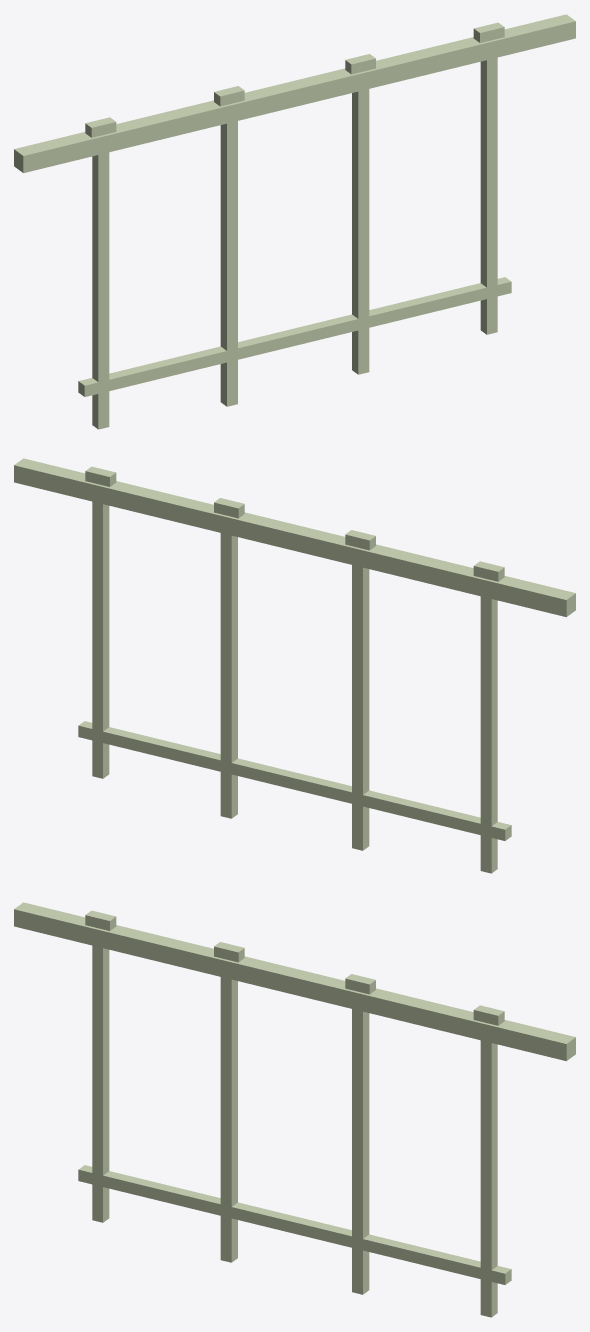
The model's file is furniture_signal_cantilever_dropper_quad.glb.
3 renders of one model, top to bottom at view 1: azimuth 30°, elevation 25°; view 2: azimuth 150°, elevation 25°; view 3: azimuth 330°, elevation 25°, orthographic.
Parts seen in each view (by area): view 1: hanger_beam, cross_tie, dropper_inner_right, dropper_inner_left, dropper_outer_left, dropper_outer_right; view 2: hanger_beam, cross_tie, dropper_inner_right, dropper_inner_left, dropper_outer_left, dropper_outer_right; view 3: hanger_beam, cross_tie, dropper_inner_left, dropper_inner_right, dropper_outer_right, dropper_outer_left.
Boxes of the visible parts, x1,y1,x2,y2 form: hanger_beam: (14,14,575,173); cross_tie: (78,277,511,396); dropper_inner_right: (352,89,369,374); dropper_inner_left: (220,121,237,406); dropper_outer_left: (92,152,109,429); dropper_outer_right: (480,57,497,334); hanger_beam: (14,458,575,617); cross_tie: (78,721,511,840); dropper_inner_right: (220,533,237,818); dropper_inner_left: (352,565,369,850); dropper_outer_left: (480,596,497,873); dropper_outer_right: (92,501,109,778); hanger_beam: (14,902,575,1061); cross_tie: (78,1165,511,1284); dropper_inner_left: (220,977,237,1262); dropper_inner_right: (352,1009,369,1294); dropper_outer_right: (480,1040,497,1317); dropper_outer_left: (92,945,109,1222).
Size of the model in its own units: 4.04 by 2.18 by 0.12.
